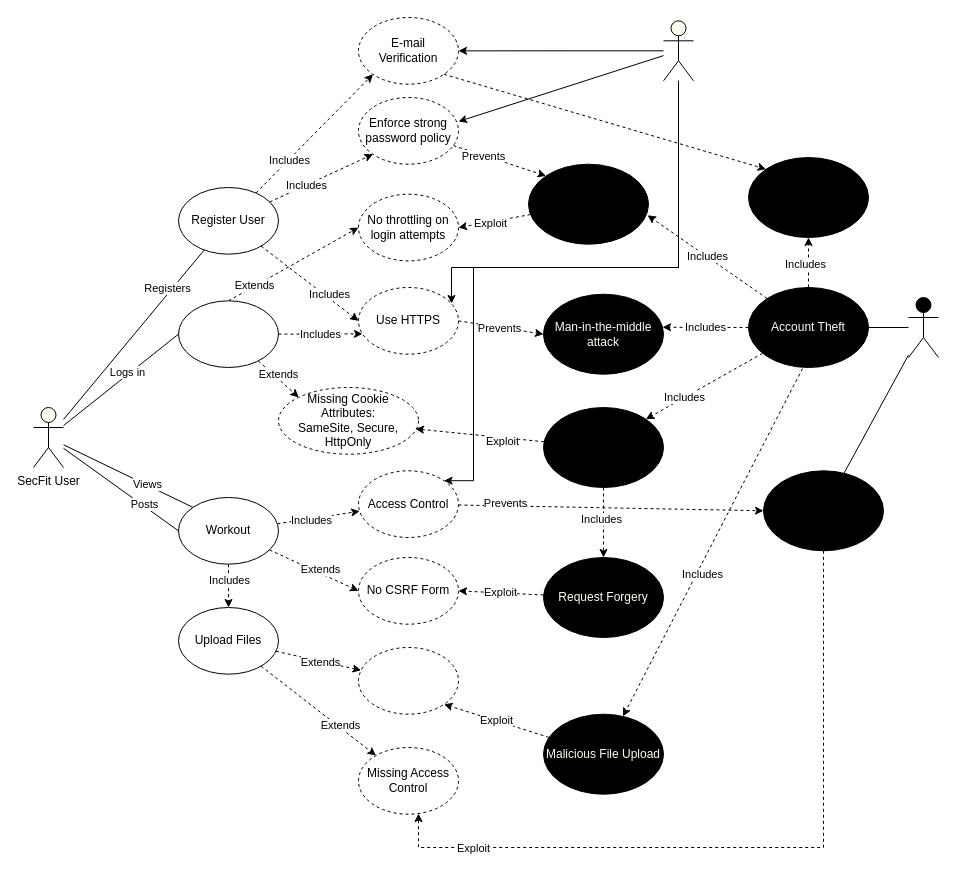
Some shapes in this 963 by 873 pixel diagram are drawn without their labels. Each missing label, with the centre of its shape:
"Access personal data" goes at [823,510].
"Attacker" goes at [923,327].
"Guess account credentials" goes at [588,203].
"Identity Theft" goes at [808,197].
"Login" goes at [228,334].
"Missing file validation" goes at [408,680].
"SecFit Engineer" goes at [678,50].
"Session hijacking" goes at [603,447].
